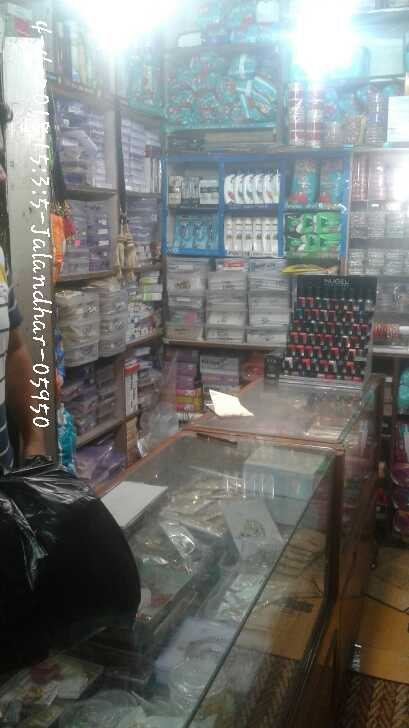venus: (190, 215, 205, 247), (175, 215, 189, 248), (207, 214, 216, 250)
